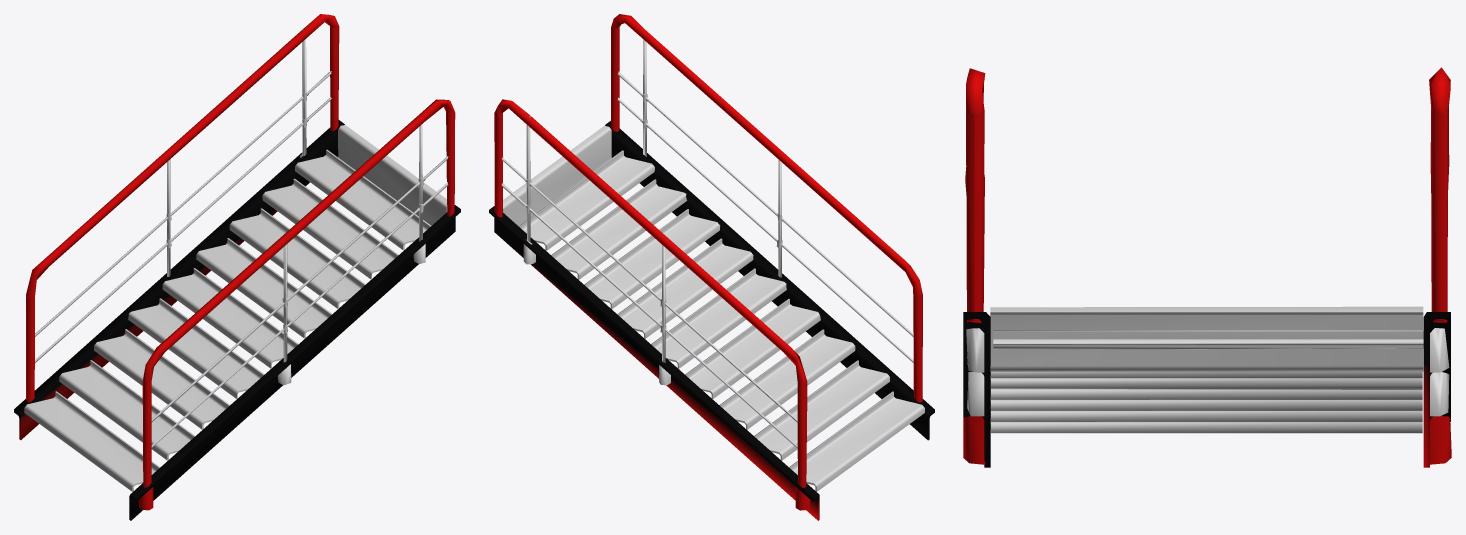
3 views of the same model, side by side, from view 1: azimuth 30°, elevation 25°; view 2: azimuth 150°, elevation 25°; view 3: azimuth 270°, elevation 25° (orthographic). The views are drawn at different scales.
Parts seen in each view (by area): view 1: Mesh; view 2: Mesh; view 3: Mesh.
Part boxes in pixels (box(x1,y1,x2,y2)): Mesh: box(14, 14, 460, 520); Mesh: box(489, 14, 934, 520); Mesh: box(963, 67, 1451, 467).
Size of the model in its own units: 3.25 by 3.34 by 2.12.
